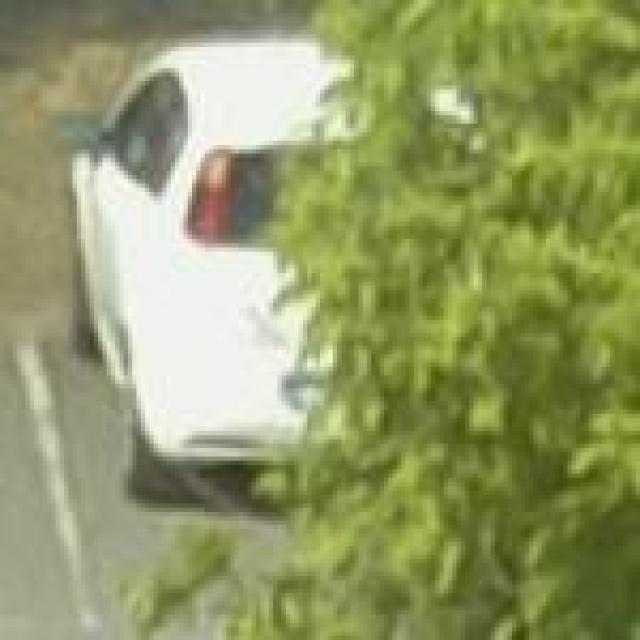cars-sUYr: (51, 23, 574, 533)
